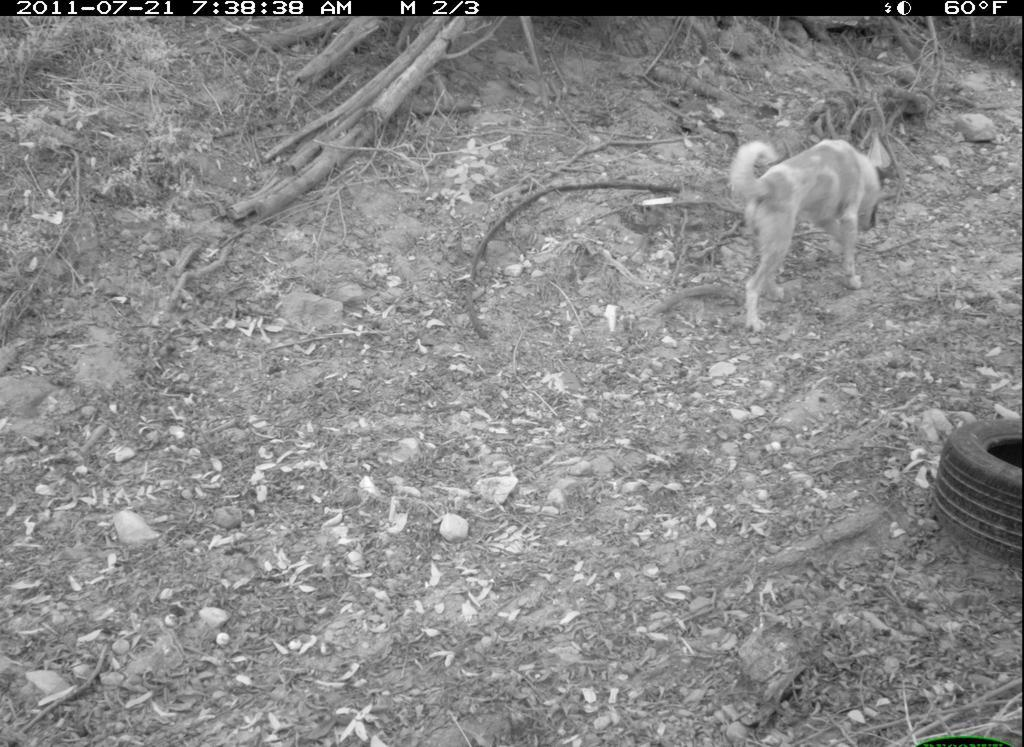dog: (721, 131, 893, 337)
